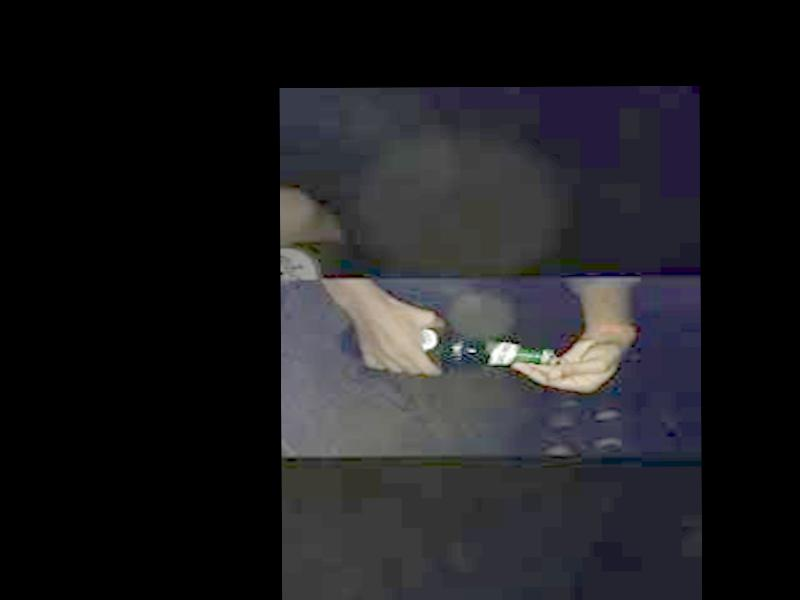Beer: (342, 317, 553, 371)
